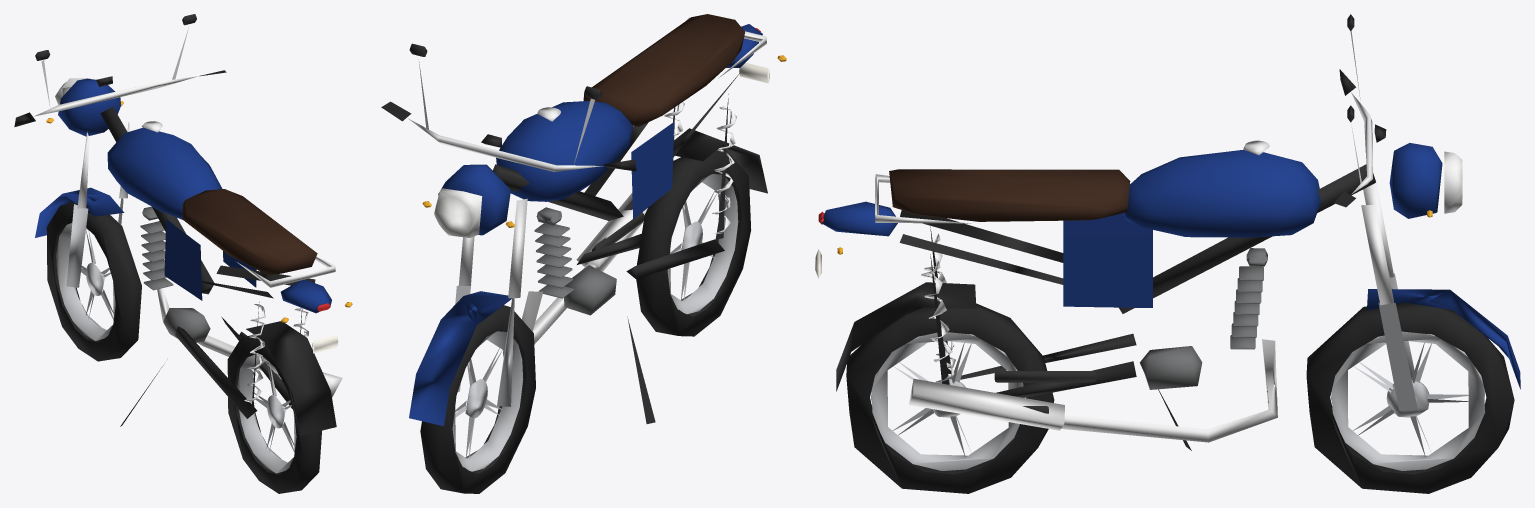
File: bike_2_lo.glb
The picture shows the model from 3 angles, left to right: view 1: azimuth 30°, elevation 25°; view 2: azimuth 150°, elevation 25°; view 3: azimuth 270°, elevation 25°; orthographic projection. The views are drawn at different scales.
Parts seen in each view (by area): view 1: body, wheel_0, wheel_1; view 2: body, wheel_1, wheel_0; view 3: body, wheel_0, wheel_1.
Boxes of the visible parts, <box> form: body: <box>14,14,352,435</box>; wheel_0: <box>46,201,141,361</box>; wheel_1: <box>227,334,321,493</box>; body: <box>381,14,786,426</box>; wheel_1: <box>636,148,751,336</box>; wheel_0: <box>420,305,535,493</box>; body: <box>815,14,1520,450</box>; wheel_0: <box>1306,302,1514,493</box>; wheel_1: <box>846,303,1054,493</box>.
Size of the model in its own units: 0.8685 by 1.31 by 1.96.
